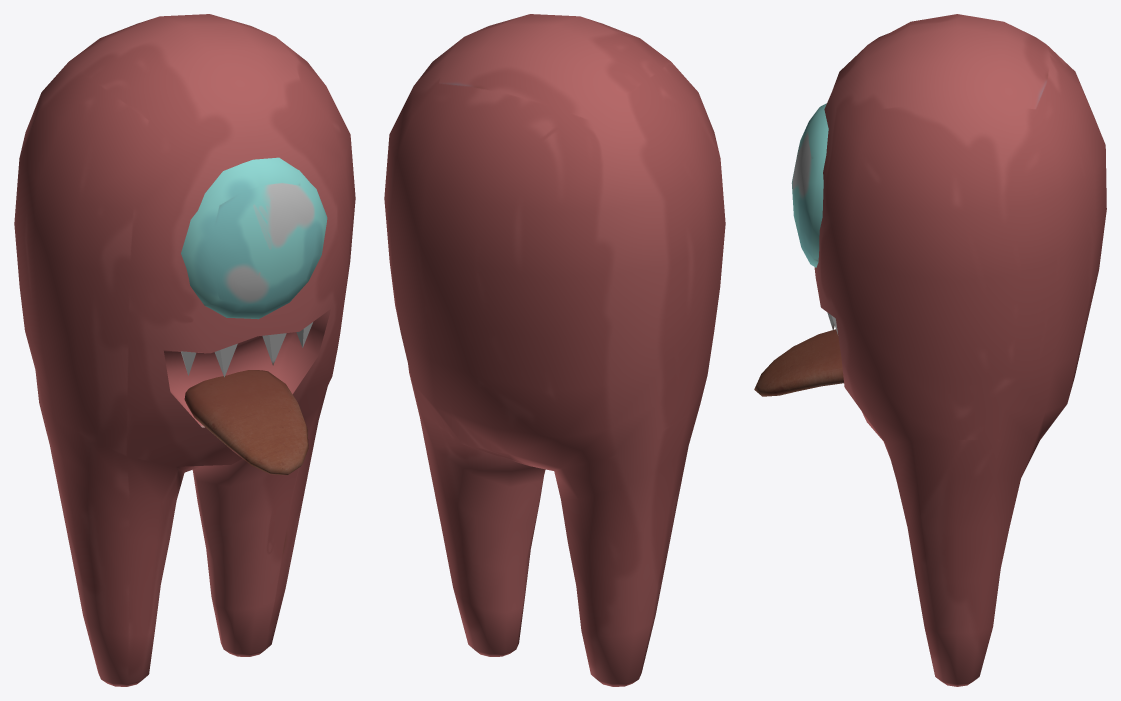
Rendered from tixtox 1.fbx.
3 views of the same model, side by side, from view 1: azimuth 30°, elevation 25°; view 2: azimuth 150°, elevation 25°; view 3: azimuth 270°, elevation 25° (orthographic). The views are drawn at different scales.
Visible parts, largest first — view 1: Cube.001; view 2: Cube.001; view 3: Cube.001.
Part boxes in pixels (x1,y1,x2,y2): Cube.001: (14, 14, 355, 686); Cube.001: (384, 14, 725, 686); Cube.001: (754, 14, 1106, 686).
Bounding box in the file's own units: 276 × 556 × 285.
